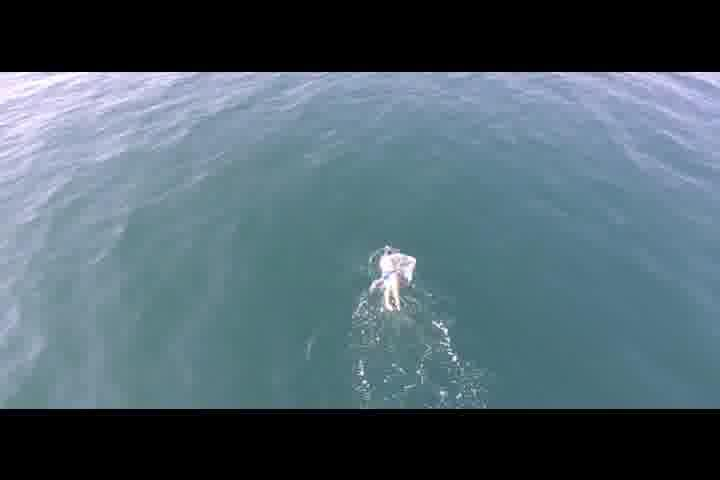swimmer: (362, 237, 422, 316)
